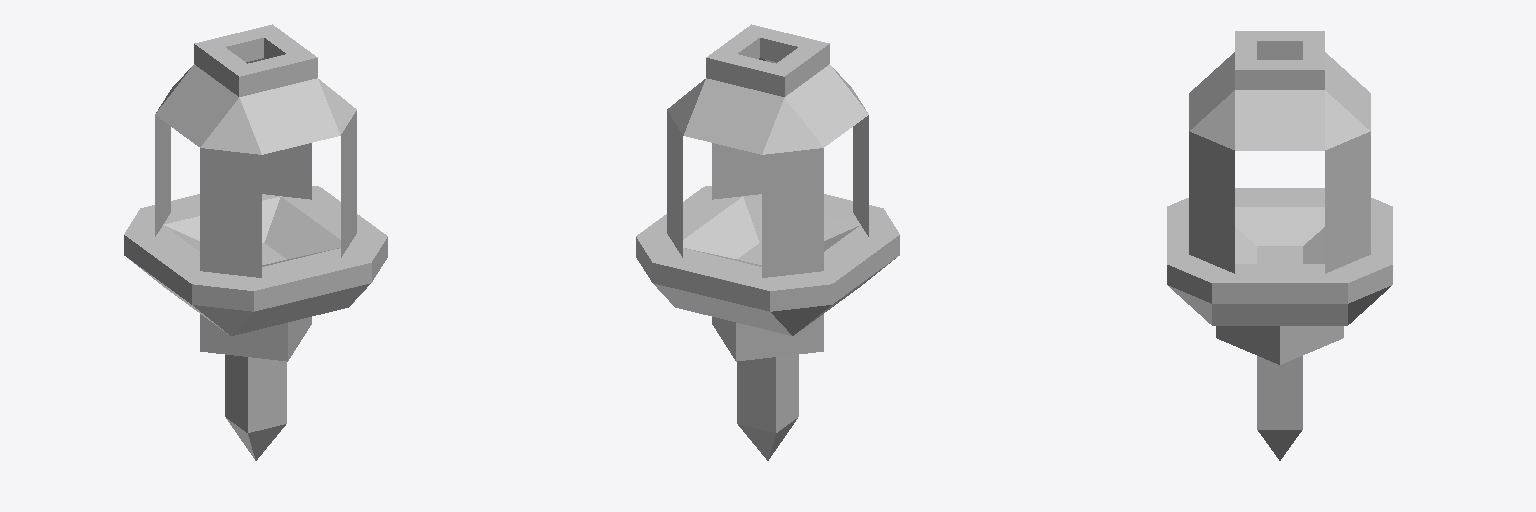
File: grand_circle_fabrication_vessel.obj
The picture shows the model from 3 angles: view 1: azimuth 30°, elevation 25°; view 2: azimuth 150°, elevation 25°; view 3: azimuth 270°, elevation 25°; orthographic projection.
Visible parts, largest first — view 1: FLOATING_MATERIA_VESSEL_Cube.092; view 2: FLOATING_MATERIA_VESSEL_Cube.092; view 3: FLOATING_MATERIA_VESSEL_Cube.092.
Part boxes in pixels (x1,y1,x2,y2): FLOATING_MATERIA_VESSEL_Cube.092: (124, 24, 387, 460); FLOATING_MATERIA_VESSEL_Cube.092: (636, 24, 899, 460); FLOATING_MATERIA_VESSEL_Cube.092: (1167, 31, 1392, 460).
Bounding box in the file's own units: 0.3125 × 0.625 × 0.3125.